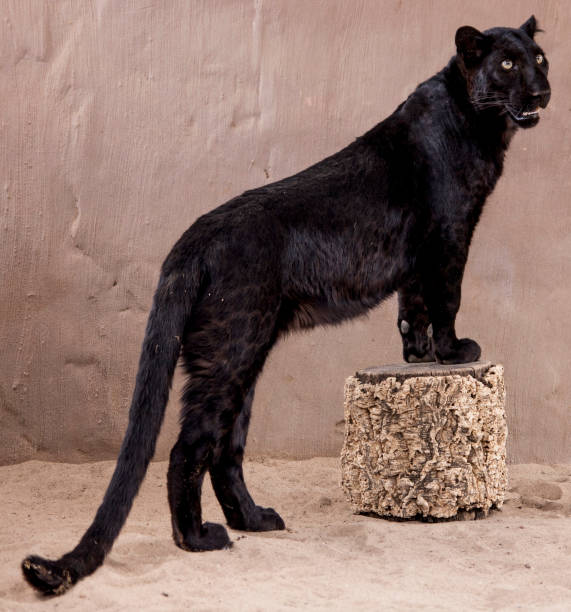panther: (443, 11, 571, 139)
